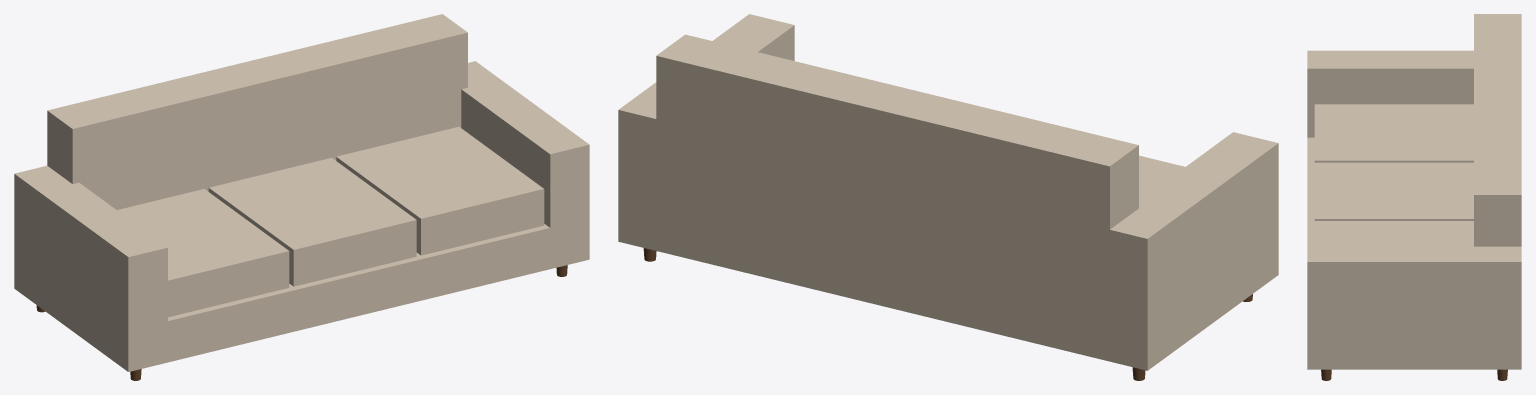
3 views of the same model, side by side, from view 1: azimuth 30°, elevation 25°; view 2: azimuth 150°, elevation 25°; view 3: azimuth 270°, elevation 25° (orthographic). The views are drawn at different scales.
Parts seen in each view (by area): view 1: p01; view 2: p01; view 3: p01.
Boxes of the visible parts, x1,y1,x2,y2 form: p01: [14, 14, 589, 380]; p01: [618, 14, 1278, 380]; p01: [1307, 14, 1521, 380].
Size of the model in its own units: 2.1 by 0.82 by 0.9.
